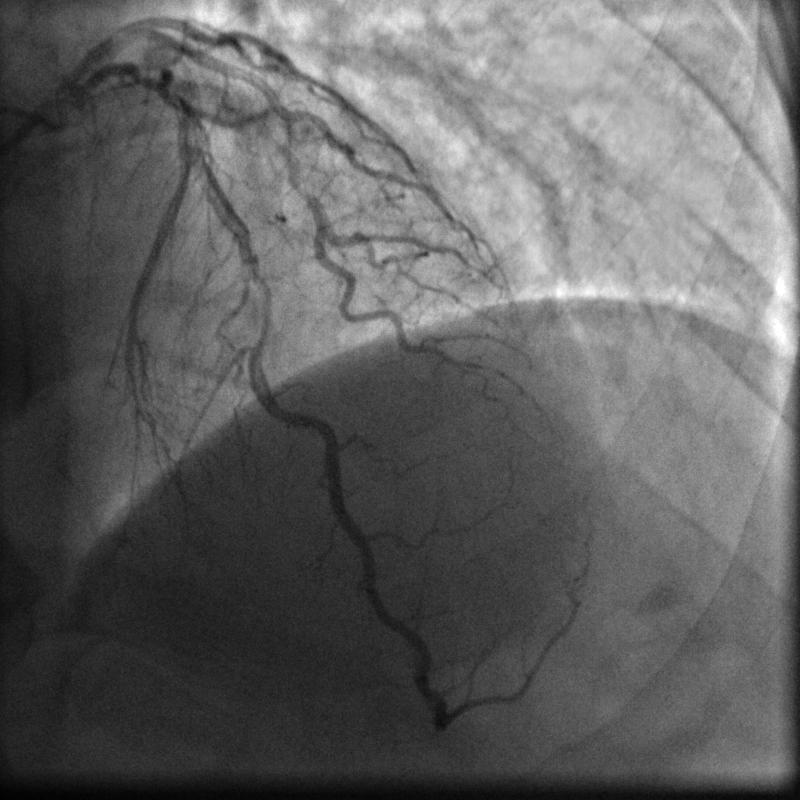Stenosis: (244, 256, 274, 352)
